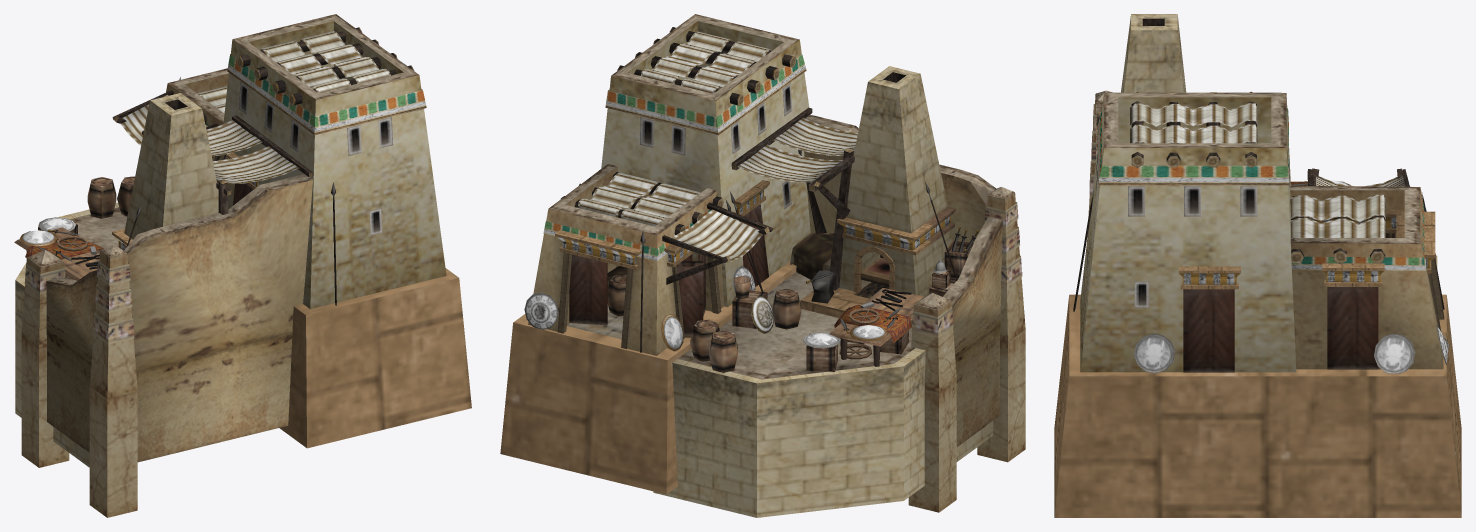
The model's file is s_ptolemies_blacksmith.glb.
3 renders of one model, left to right at view 1: azimuth 30°, elevation 25°; view 2: azimuth 150°, elevation 25°; view 3: azimuth 270°, elevation 25°, orthographic. The views are drawn at different scales.
Parts seen in each view (by area): view 1: s_ptolemies_blacksmith_part0; view 2: s_ptolemies_blacksmith_part0; view 3: s_ptolemies_blacksmith_part0.
Boxes of the visible parts, x1,y1,x2,y2 form: s_ptolemies_blacksmith_part0: [14, 14, 471, 517]; s_ptolemies_blacksmith_part0: [500, 14, 1025, 517]; s_ptolemies_blacksmith_part0: [1054, 14, 1461, 517].
Size of the model in its own units: 4.2 by 4.21 by 3.88.
Materials: 1 (1 with a texture image).
